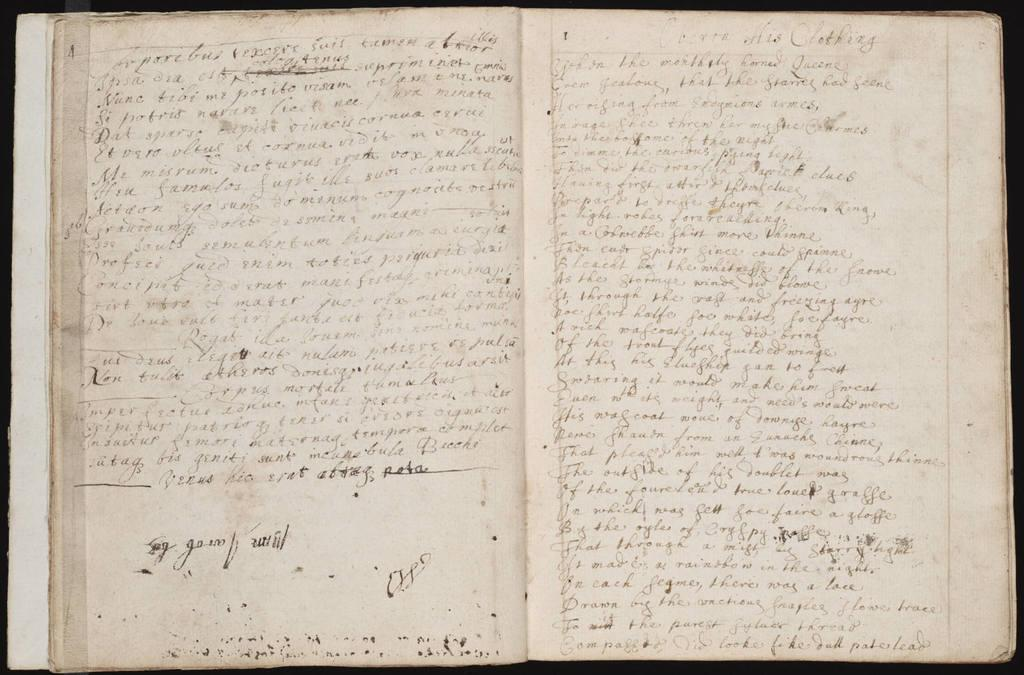book: (4, 10, 1016, 664)
